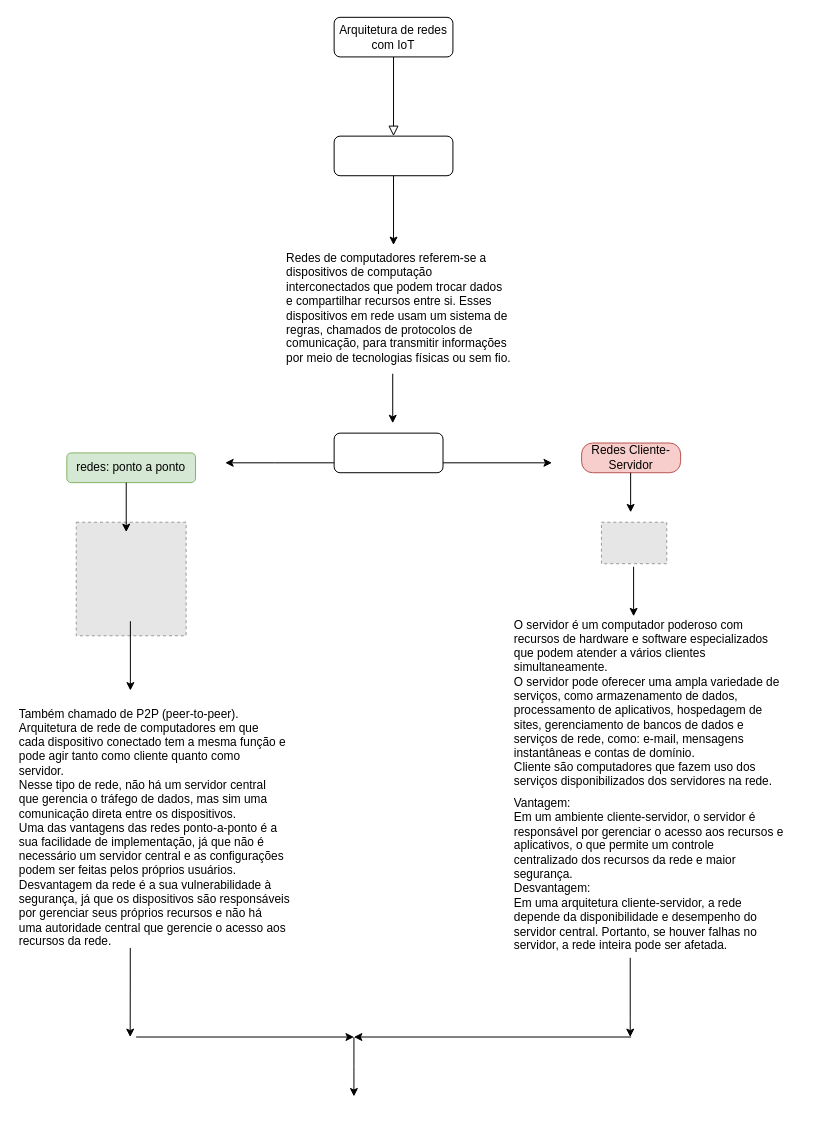
Image size: 836x1122. Some labels were removed from this diagram. Grey dashed boxes stand in for pictures. Each missing label, with the box of its shape:
Arquiteturas de Redes e seus tipos: (333, 432, 443, 473)
O que é rede de computadores?: (333, 135, 453, 176)
